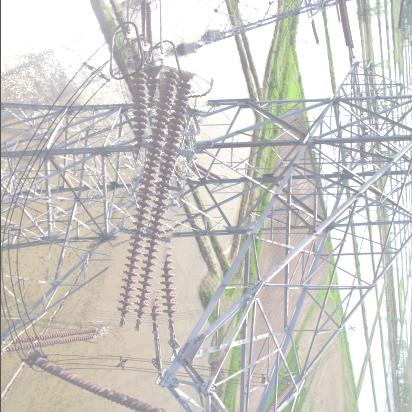insulator: (111, 67, 198, 333), (2, 321, 100, 358)
